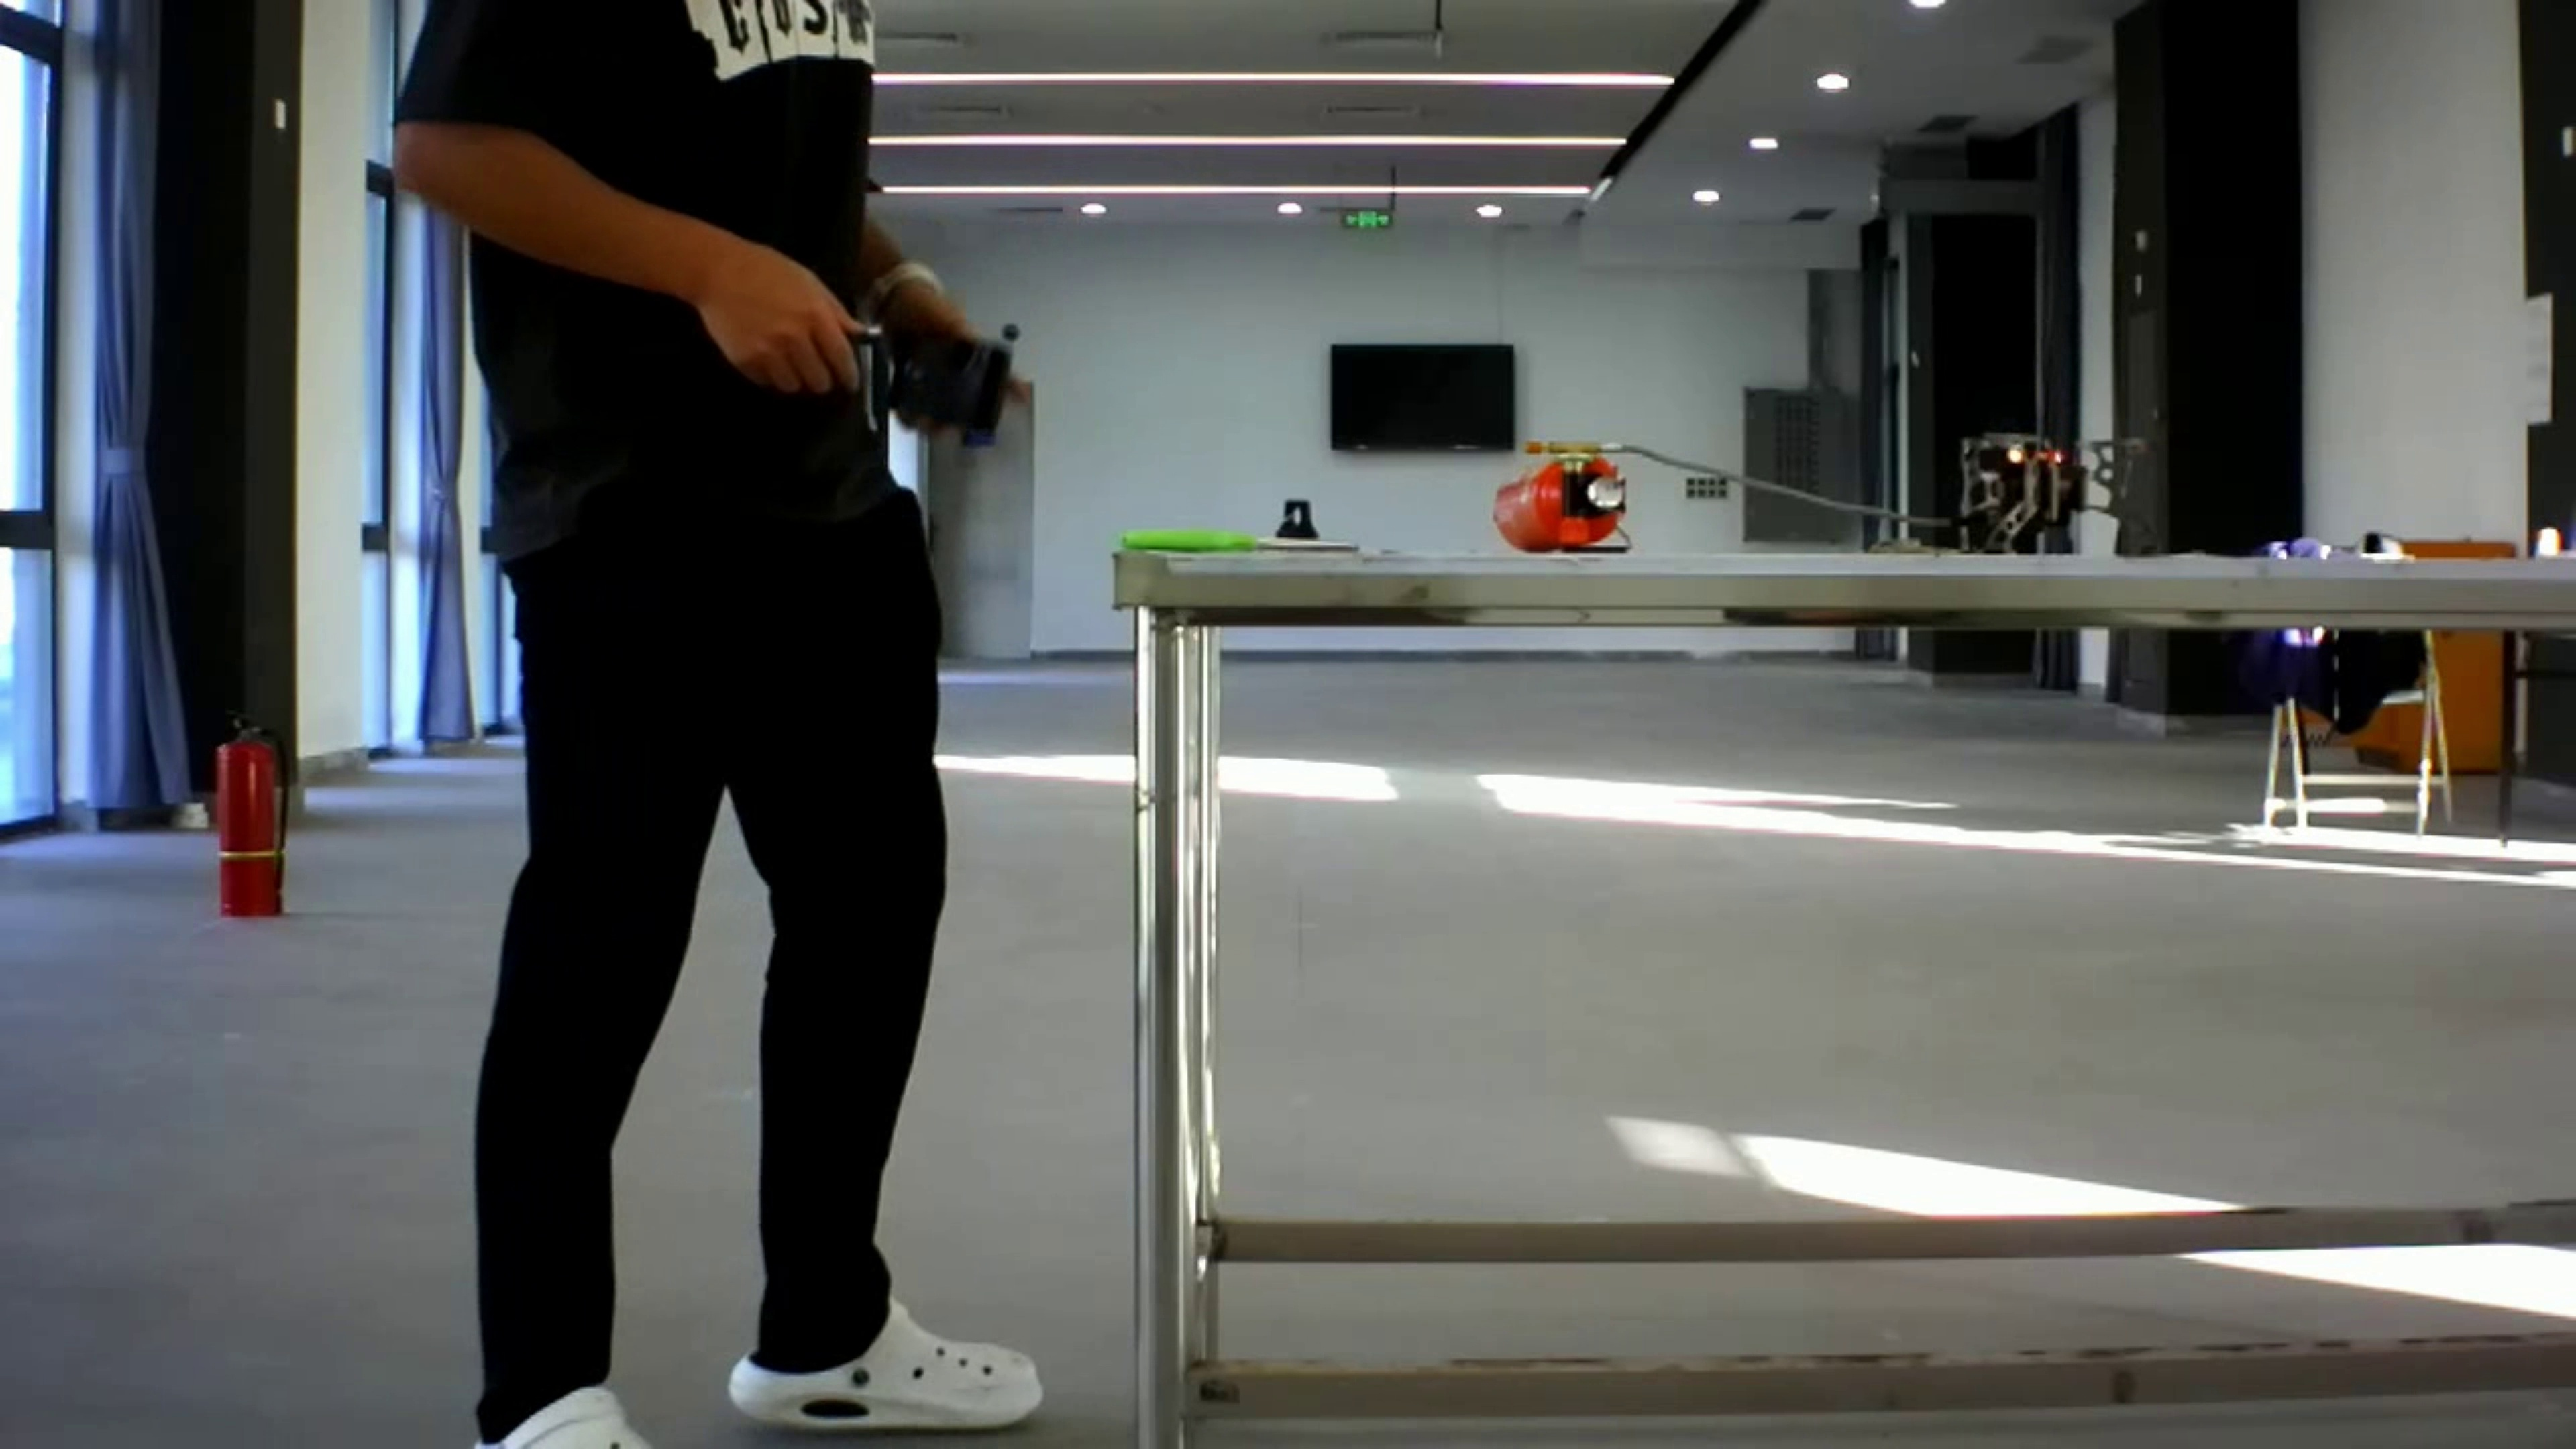Fire: (1994, 410, 2088, 488)
